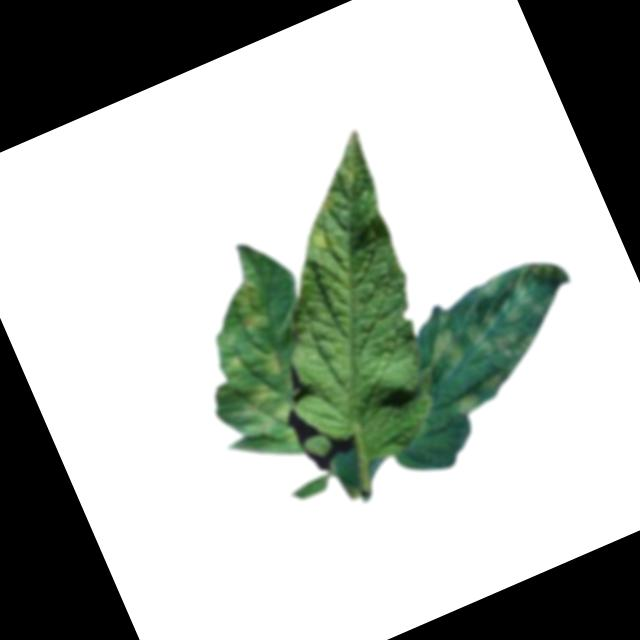Leaf_Mold: (386, 245, 603, 430), (190, 271, 312, 438), (304, 225, 337, 258)
